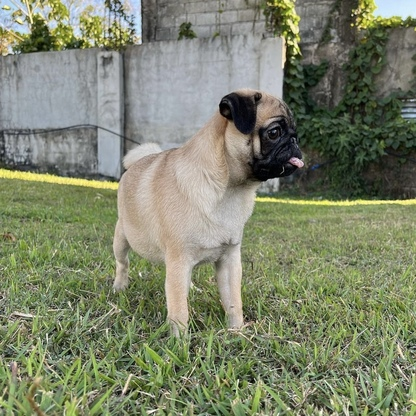Pug: (109, 86, 308, 338)
